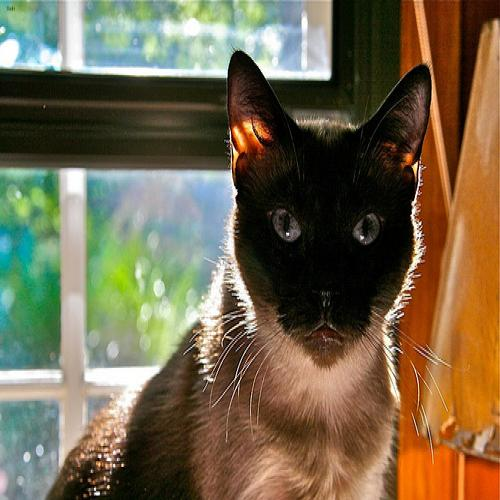siamese: (211, 25, 438, 368)
